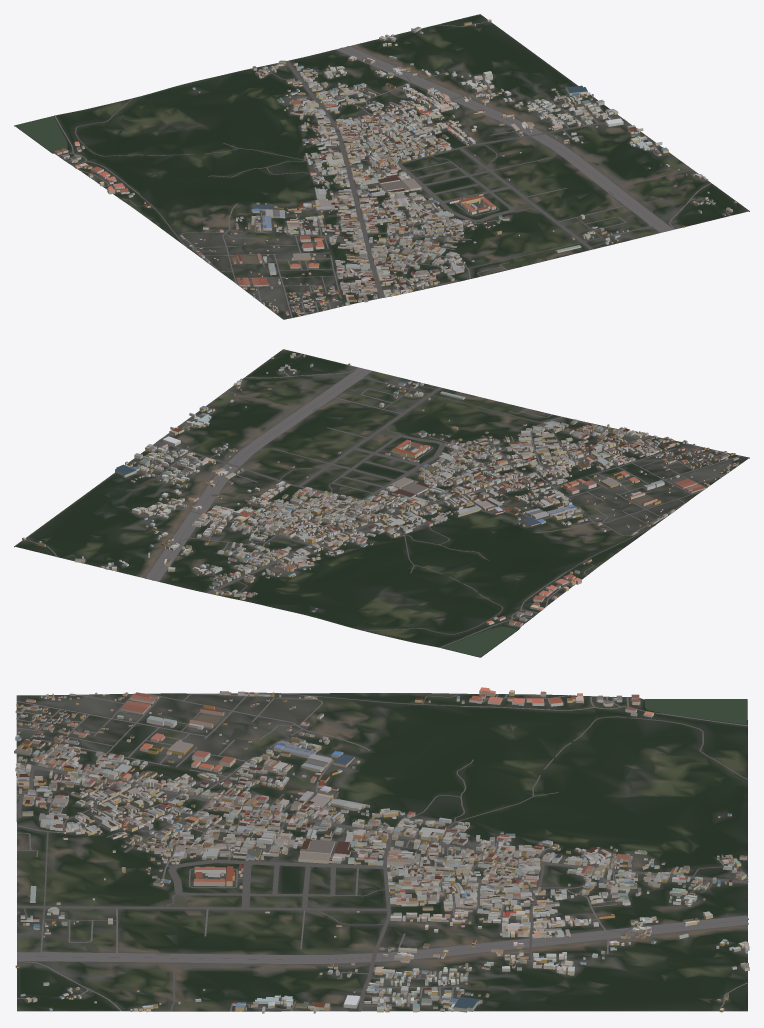
3 renders of one model, top to bottom at view 1: azimuth 30°, elevation 25°; view 2: azimuth 150°, elevation 25°; view 3: azimuth 270°, elevation 25°, orthographic. The views are drawn at different scales.
Visible parts, largest first — view 1: ground, buildings, roads, water; view 2: ground, buildings, roads, water; view 3: ground, buildings, roads, water.
Boxes of the visible parts, <box> form: ground: <box>14,14,749,319</box>; buildings: <box>54,19,736,316</box>; roads: <box>54,22,730,317</box>; water: <box>15,116,67,152</box>; ground: <box>14,349,749,657</box>; buildings: <box>22,353,738,626</box>; roads: <box>29,353,741,647</box>; water: <box>442,626,517,657</box>; ground: <box>16,693,747,1011</box>; buildings: <box>14,687,749,1013</box>; roads: <box>16,693,748,1011</box>; water: <box>645,699,747,724</box>.
Size of the model in its own units: 1418 by 31.31 by 1410.
